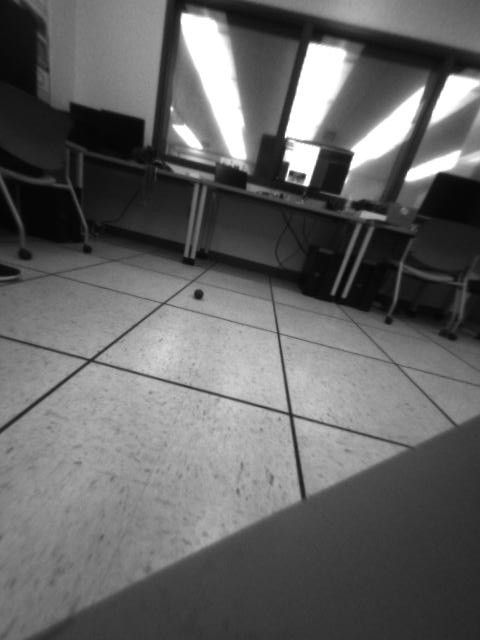dogtoy: (184, 282, 214, 306)
